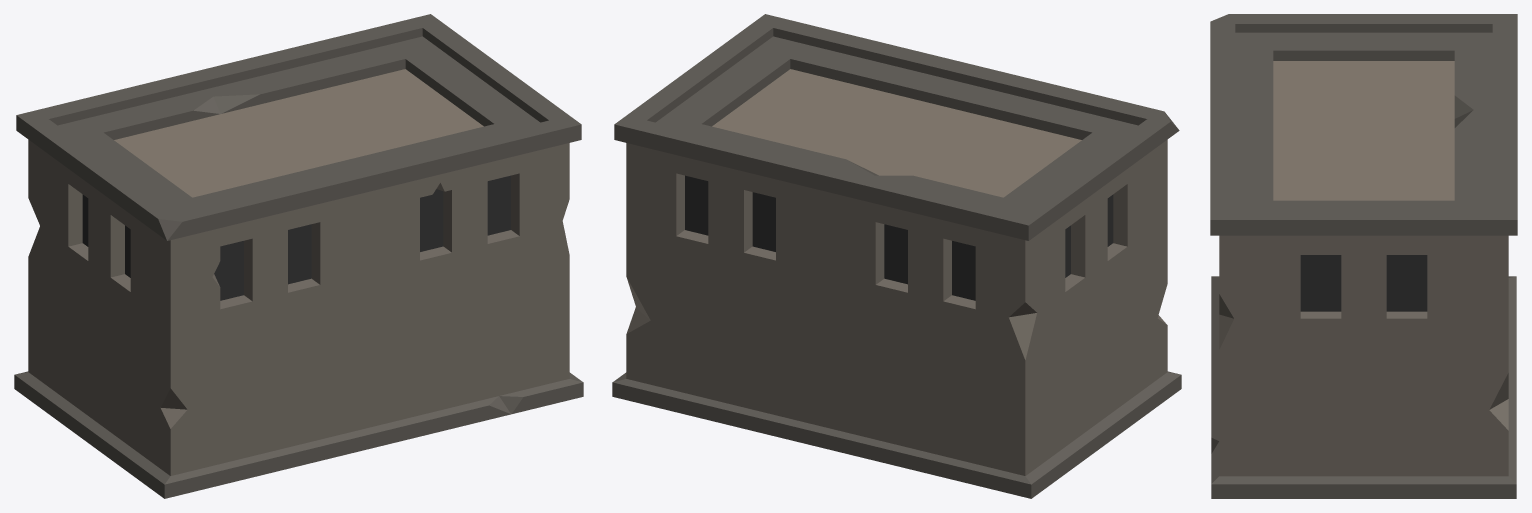
The model's file is SM_Bld_Fort_Room_02.glb.
3 views of the same model, side by side, from view 1: azimuth 30°, elevation 25°; view 2: azimuth 150°, elevation 25°; view 3: azimuth 270°, elevation 25° (orthographic).
Parts seen in each view (by area): view 1: SM_Bld_Fort_Room_02; view 2: SM_Bld_Fort_Room_02; view 3: SM_Bld_Fort_Room_02.
Boxes of the visible parts, x1,y1,x2,y2 form: SM_Bld_Fort_Room_02: (14,14,583,498); SM_Bld_Fort_Room_02: (612,14,1181,498); SM_Bld_Fort_Room_02: (1210,14,1517,498).
Bounding box in the file's own units: 0.1061 × 0.0661 × 0.0662.
1 material, 1 textured.
